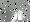person: (20, 8, 27, 20), (14, 11, 18, 22)
